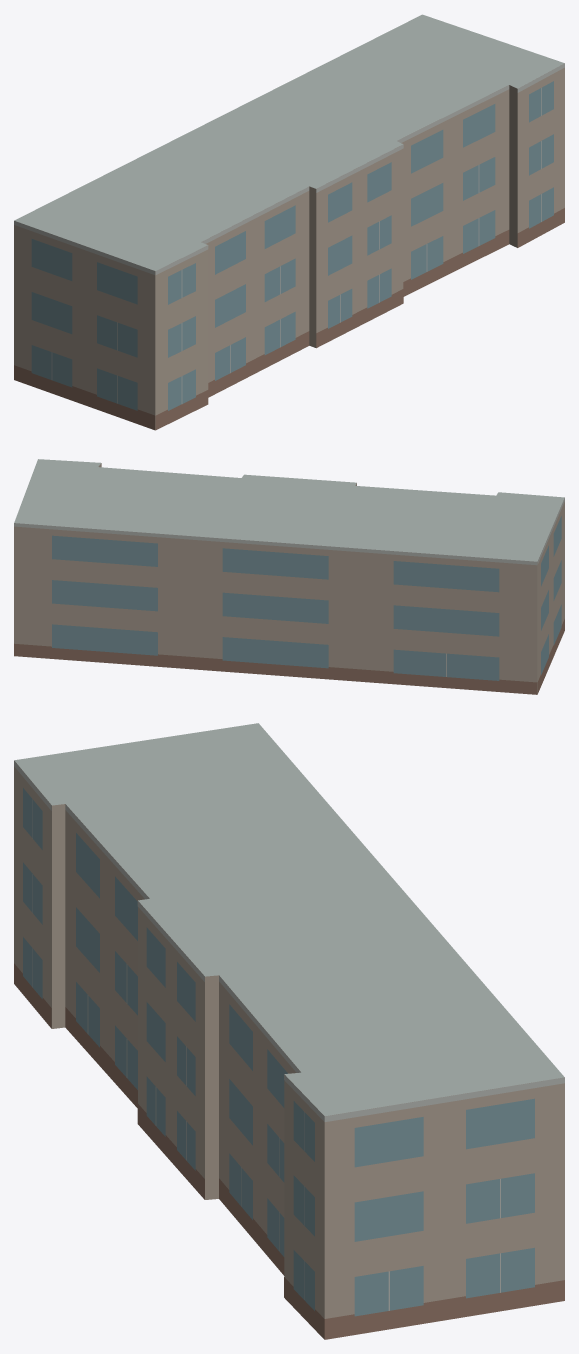
Rendered from survey-upis-33023955.glb.
3 views of the same model, one above another, from view 1: azimuth 30°, elevation 25°; view 2: azimuth 150°, elevation 25°; view 3: azimuth 270°, elevation 25° (orthographic). The views are drawn at different scales.
Visible parts, largest first — view 1: survey-upis-33023955.tmp; view 2: survey-upis-33023955.tmp; view 3: survey-upis-33023955.tmp.
Part boxes in pixels (bbox=[...]): survey-upis-33023955.tmp: bbox=[14, 14, 564, 430]; survey-upis-33023955.tmp: bbox=[14, 459, 564, 694]; survey-upis-33023955.tmp: bbox=[14, 723, 564, 1339].
Size of the model in its own units: 34.53 by 9.15 by 20.44.
